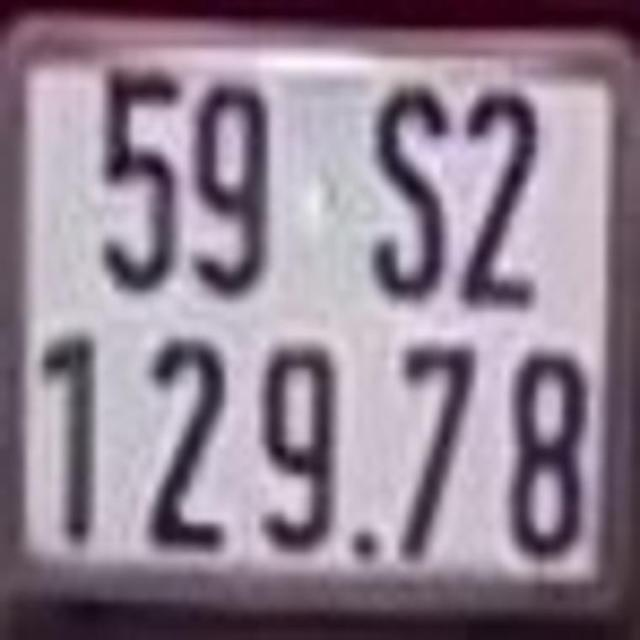1: (40, 330, 102, 544)
2: (147, 334, 228, 552), (463, 87, 539, 310)
5: (97, 62, 182, 294)
7: (398, 340, 478, 564)
8: (511, 350, 585, 560)
9: (189, 75, 272, 298), (260, 339, 336, 554)
S: (369, 81, 450, 301)
